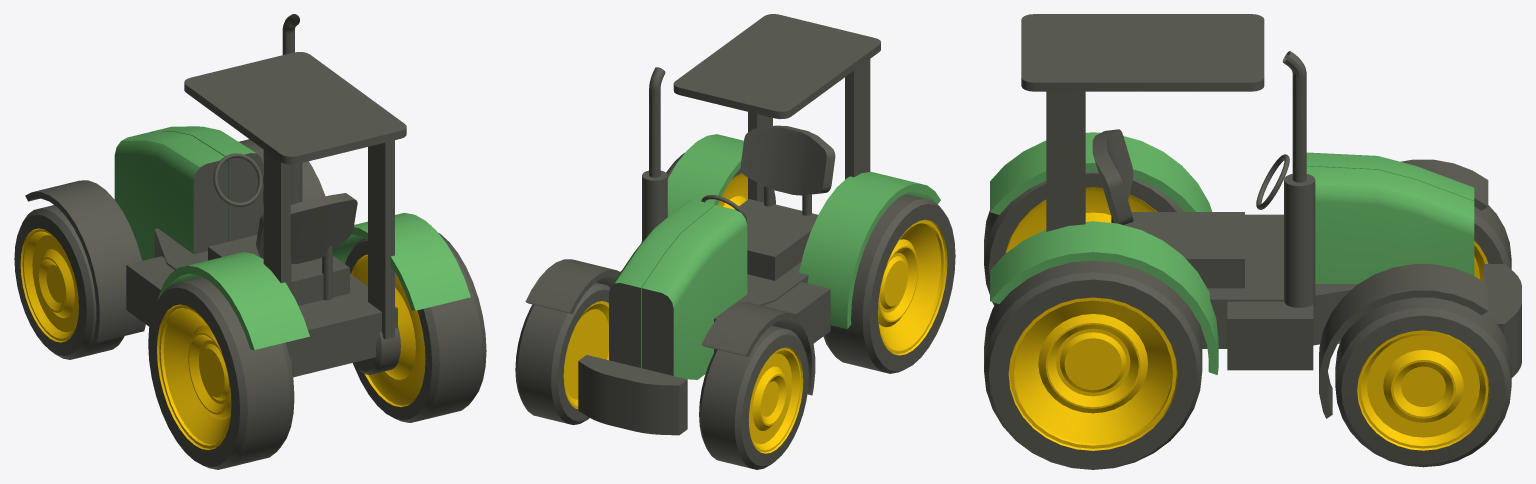
The model's file is tractor.fbx.
The picture shows the model from 3 angles, left to right: view 1: azimuth 30°, elevation 25°; view 2: azimuth 150°, elevation 25°; view 3: azimuth 270°, elevation 25°; orthographic projection. The views are drawn at different scales.
Parts seen in each view (by area): view 1: Cylinder.002; view 2: Cylinder.002; view 3: Cylinder.002.
Boxes of the visible parts, x1=… form: Cylinder.002: x1=14, y1=14, x2=486, y2=469; Cylinder.002: x1=515, y1=14, x2=955, y2=469; Cylinder.002: x1=984, y1=14, x2=1521, y2=469.
Size of the model in its own units: 0.3266 by 0.4328 by 0.5441.
